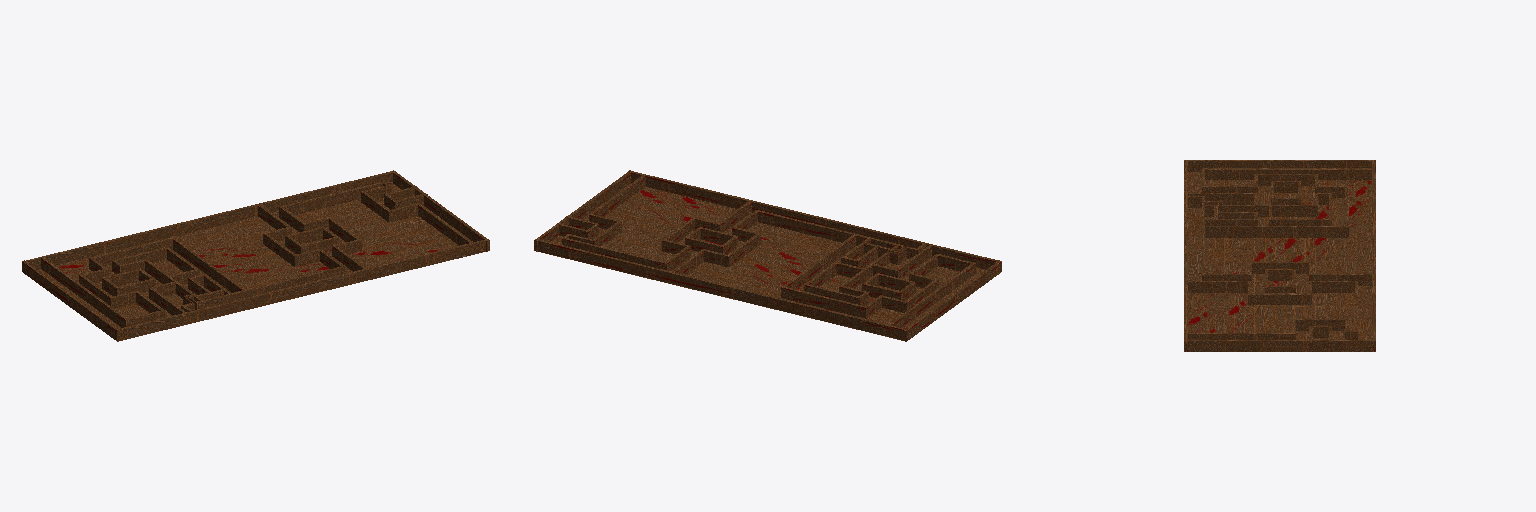
The picture shows the model from 3 angles: view 1: azimuth 30°, elevation 25°; view 2: azimuth 150°, elevation 25°; view 3: azimuth 270°, elevation 25°; orthographic projection.
Parts seen in each view (by area): view 1: Plane, Wall_E, Wall_W, Wall_S, M_W2.006, Wall_S.001, Wall_N, M_W4.002, M_W4.030, M_W4.027, M_W1; view 2: Plane, Wall_W, Wall_E, M_W2.006, Wall_S, Wall_S.001, Wall_N, M_W4.027, M_W4.030, M_W4.002, M_W1; view 3: Plane, Wall_N, M_W4.030, Wall_S.001, Wall_S, M_W1, M_W4.008, M_W2.005, M_W4.018, Wall_E, Wall_W, M_W4.024 (+2 smaller).
Boxes of the visible parts, x1=… form: Plane: x1=39, y1=183, x2=482, y2=340; Wall_E: x1=116, y1=239, x2=489, y2=340; Wall_W: x1=26, y1=171, x2=394, y2=269; Wall_S: x1=22, y1=260, x2=119, y2=341; M_W2.006: x1=196, y1=266, x2=344, y2=309; Wall_S.001: x1=40, y1=256, x2=128, y2=327; Wall_N: x1=393, y1=170, x2=488, y2=251; M_W4.002: x1=279, y1=182, x2=383, y2=218; M_W4.030: x1=173, y1=238, x2=246, y2=292; M_W4.027: x1=90, y1=237, x2=174, y2=265; M_W1: x1=418, y1=203, x2=472, y2=245; Plane: x1=541, y1=184, x2=984, y2=340; Wall_W: x1=534, y1=239, x2=907, y2=340; Wall_E: x1=628, y1=170, x2=1000, y2=269; M_W2.006: x1=758, y1=210, x2=904, y2=248; Wall_S: x1=904, y1=260, x2=1001, y2=341; Wall_S.001: x1=888, y1=263, x2=974, y2=327; Wall_N: x1=535, y1=170, x2=630, y2=251; M_W4.027: x1=781, y1=286, x2=866, y2=318; M_W4.030: x1=784, y1=234, x2=856, y2=289; M_W4.002: x1=562, y1=237, x2=667, y2=270; M_W1: x1=591, y1=175, x2=645, y2=216; Plane: x1=1184, y1=172, x2=1375, y2=339; Wall_N: x1=1184, y1=340, x2=1375, y2=351; M_W4.030: x1=1202, y1=226, x2=1348, y2=237; Wall_S.001: x1=1202, y1=168, x2=1374, y2=179; Wall_S: x1=1184, y1=160, x2=1375, y2=171; M_W1: x1=1188, y1=333, x2=1295, y2=339; M_W4.008: x1=1249, y1=293, x2=1311, y2=304; M_W2.005: x1=1188, y1=281, x2=1251, y2=292; M_W4.018: x1=1254, y1=205, x2=1317, y2=216; Wall_E: x1=1185, y1=160, x2=1187, y2=351; Wall_W: x1=1372, y1=160, x2=1374, y2=351; M_W4.024: x1=1188, y1=193, x2=1253, y2=204.
Size of the model in its own units: 180 by 5 by 80.
1 materials, 1 textured.